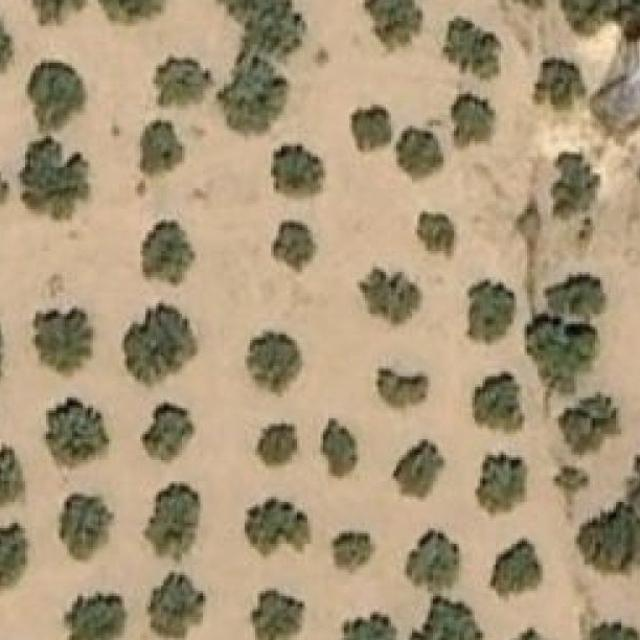Tree: (121, 301, 198, 390), (215, 0, 313, 59), (574, 502, 640, 578), (142, 481, 200, 563), (43, 398, 109, 470), (245, 496, 312, 564), (25, 146, 88, 218), (33, 306, 95, 379), (440, 16, 506, 84), (532, 324, 600, 390), (224, 63, 284, 136), (145, 570, 206, 638), (25, 58, 83, 126), (245, 330, 302, 398), (559, 395, 619, 458), (137, 118, 184, 197), (139, 220, 195, 286), (466, 270, 516, 343), (58, 494, 111, 562), (390, 439, 446, 502), (490, 536, 543, 602), (553, 152, 606, 218), (402, 531, 462, 589), (475, 453, 527, 519), (270, 143, 325, 204), (475, 369, 525, 435), (142, 403, 195, 465), (156, 55, 218, 108), (407, 598, 485, 640), (360, 270, 420, 322), (362, 0, 422, 50), (372, 366, 430, 416), (249, 591, 304, 640), (67, 593, 124, 640), (550, 272, 611, 314), (270, 220, 315, 272), (320, 418, 357, 481), (254, 420, 299, 470), (450, 92, 492, 144), (330, 531, 378, 576), (534, 61, 580, 106), (0, 523, 28, 596), (580, 0, 640, 33), (404, 130, 443, 178), (0, 441, 28, 507), (351, 108, 391, 152), (417, 209, 454, 256), (339, 612, 399, 640), (104, 0, 172, 19), (553, 465, 590, 495), (590, 619, 640, 640), (37, 0, 84, 19), (498, 627, 566, 640), (630, 446, 640, 514), (506, 0, 553, 5)
